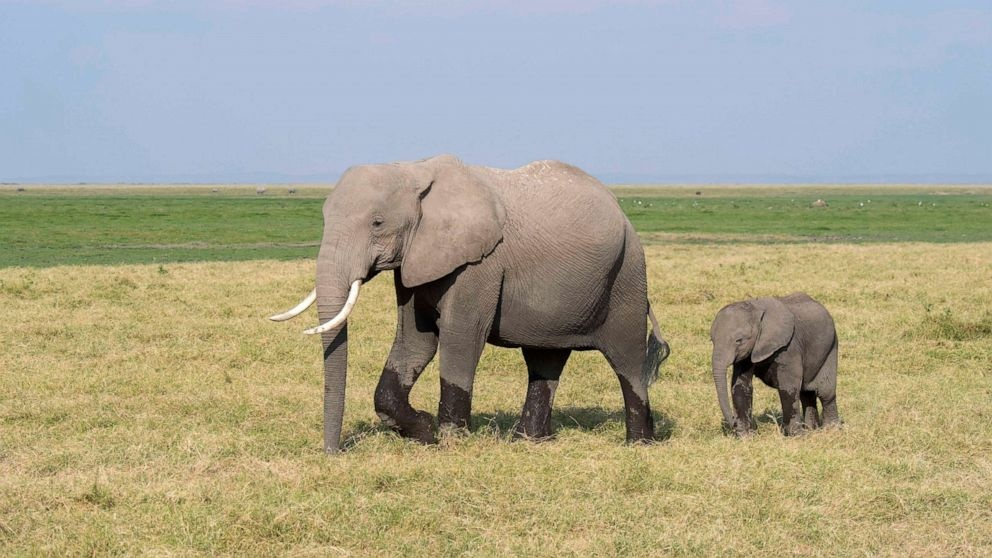elephant: (467, 300, 870, 558), (775, 362, 915, 505)
